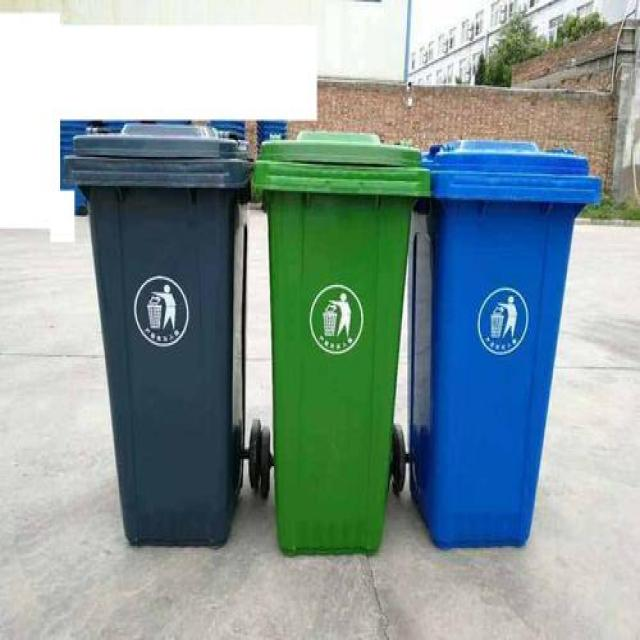garbage_bin: (62, 121, 252, 548), (407, 137, 602, 546), (252, 130, 430, 554)
